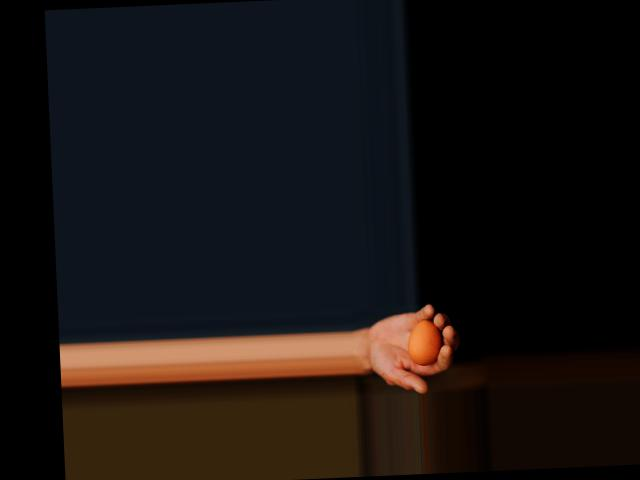egg: (407, 318, 441, 365)
